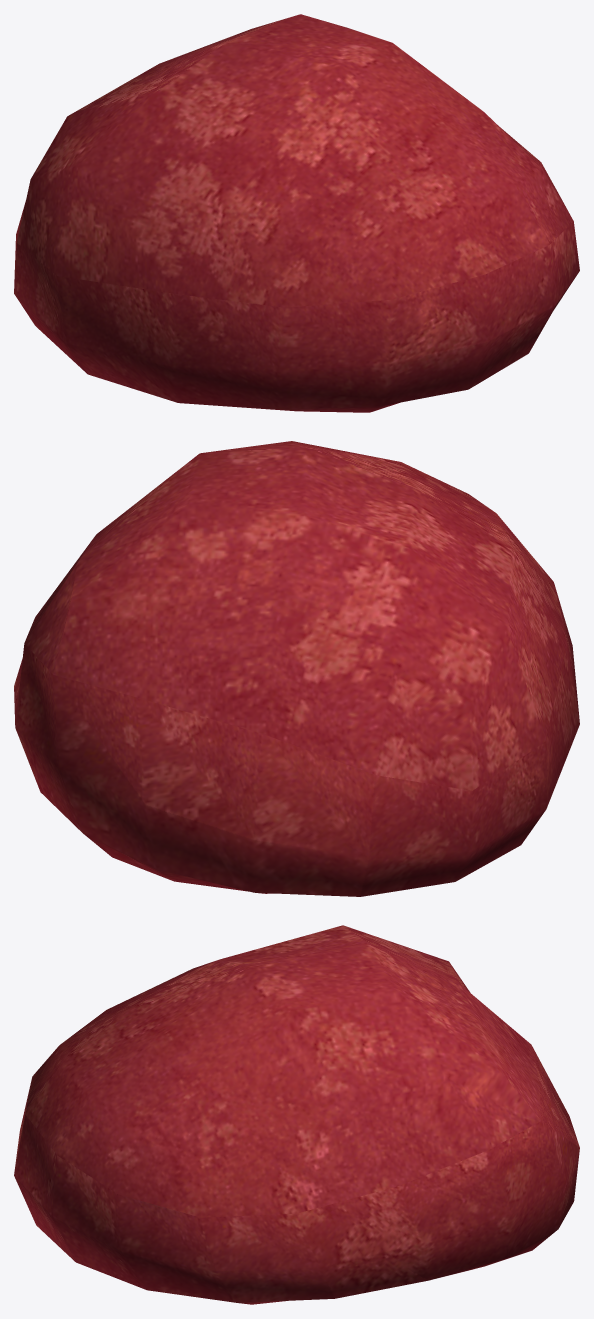
3 renders of one model, top to bottom at view 1: azimuth 30°, elevation 25°; view 2: azimuth 150°, elevation 25°; view 3: azimuth 270°, elevation 25°, orthographic. The views are drawn at different scales.
Visible parts, largest first — view 1: Coral_3; view 2: Coral_3; view 3: Coral_3.
Boxes of the visible parts, left/top/right/bottom form: Coral_3: left=14, top=14, right=579, bottom=412; Coral_3: left=14, top=441, right=579, bottom=896; Coral_3: left=14, top=925, right=579, bottom=1304.
Bounding box in the file's own units: 6.85 × 4.12 × 7.43.
